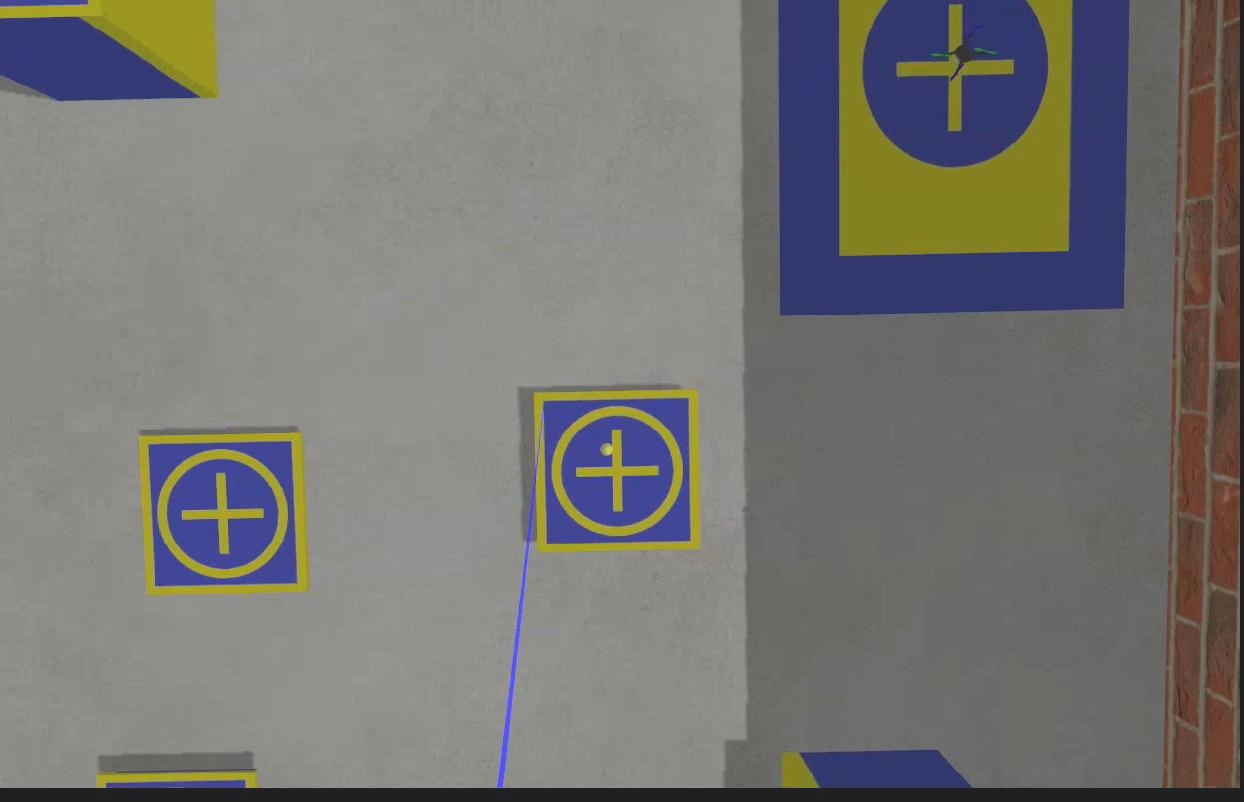large_base: (777, 1, 1129, 313)
small_base: (533, 389, 704, 558), (138, 428, 312, 594)
